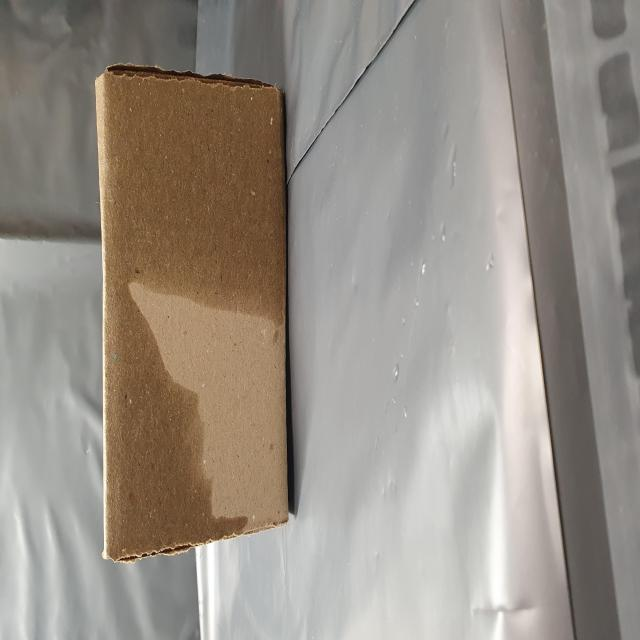wet: (51, 162, 332, 506)
